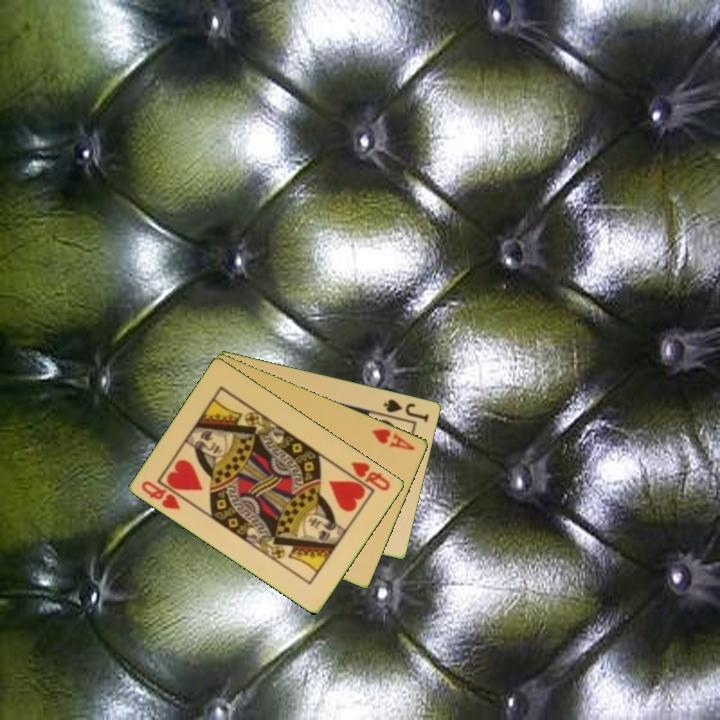Ah: (369, 425, 418, 453)
Js: (380, 395, 432, 425)
Qh: (347, 458, 393, 494), (138, 477, 184, 512)
